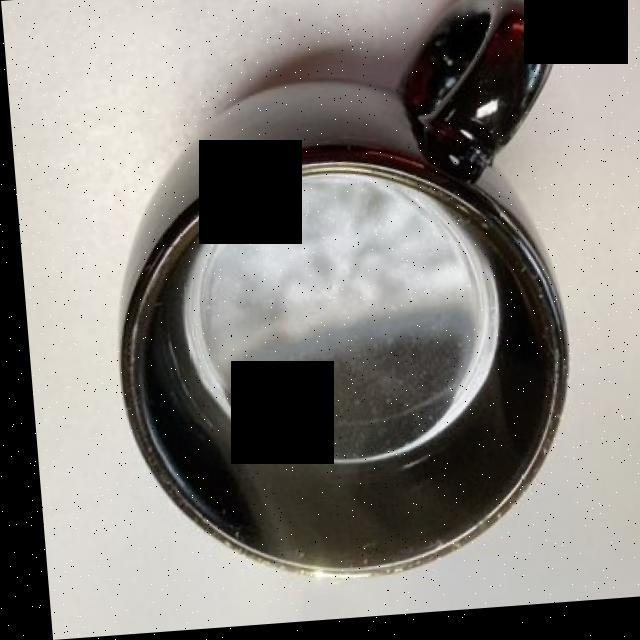coffee: (173, 186, 497, 489)
